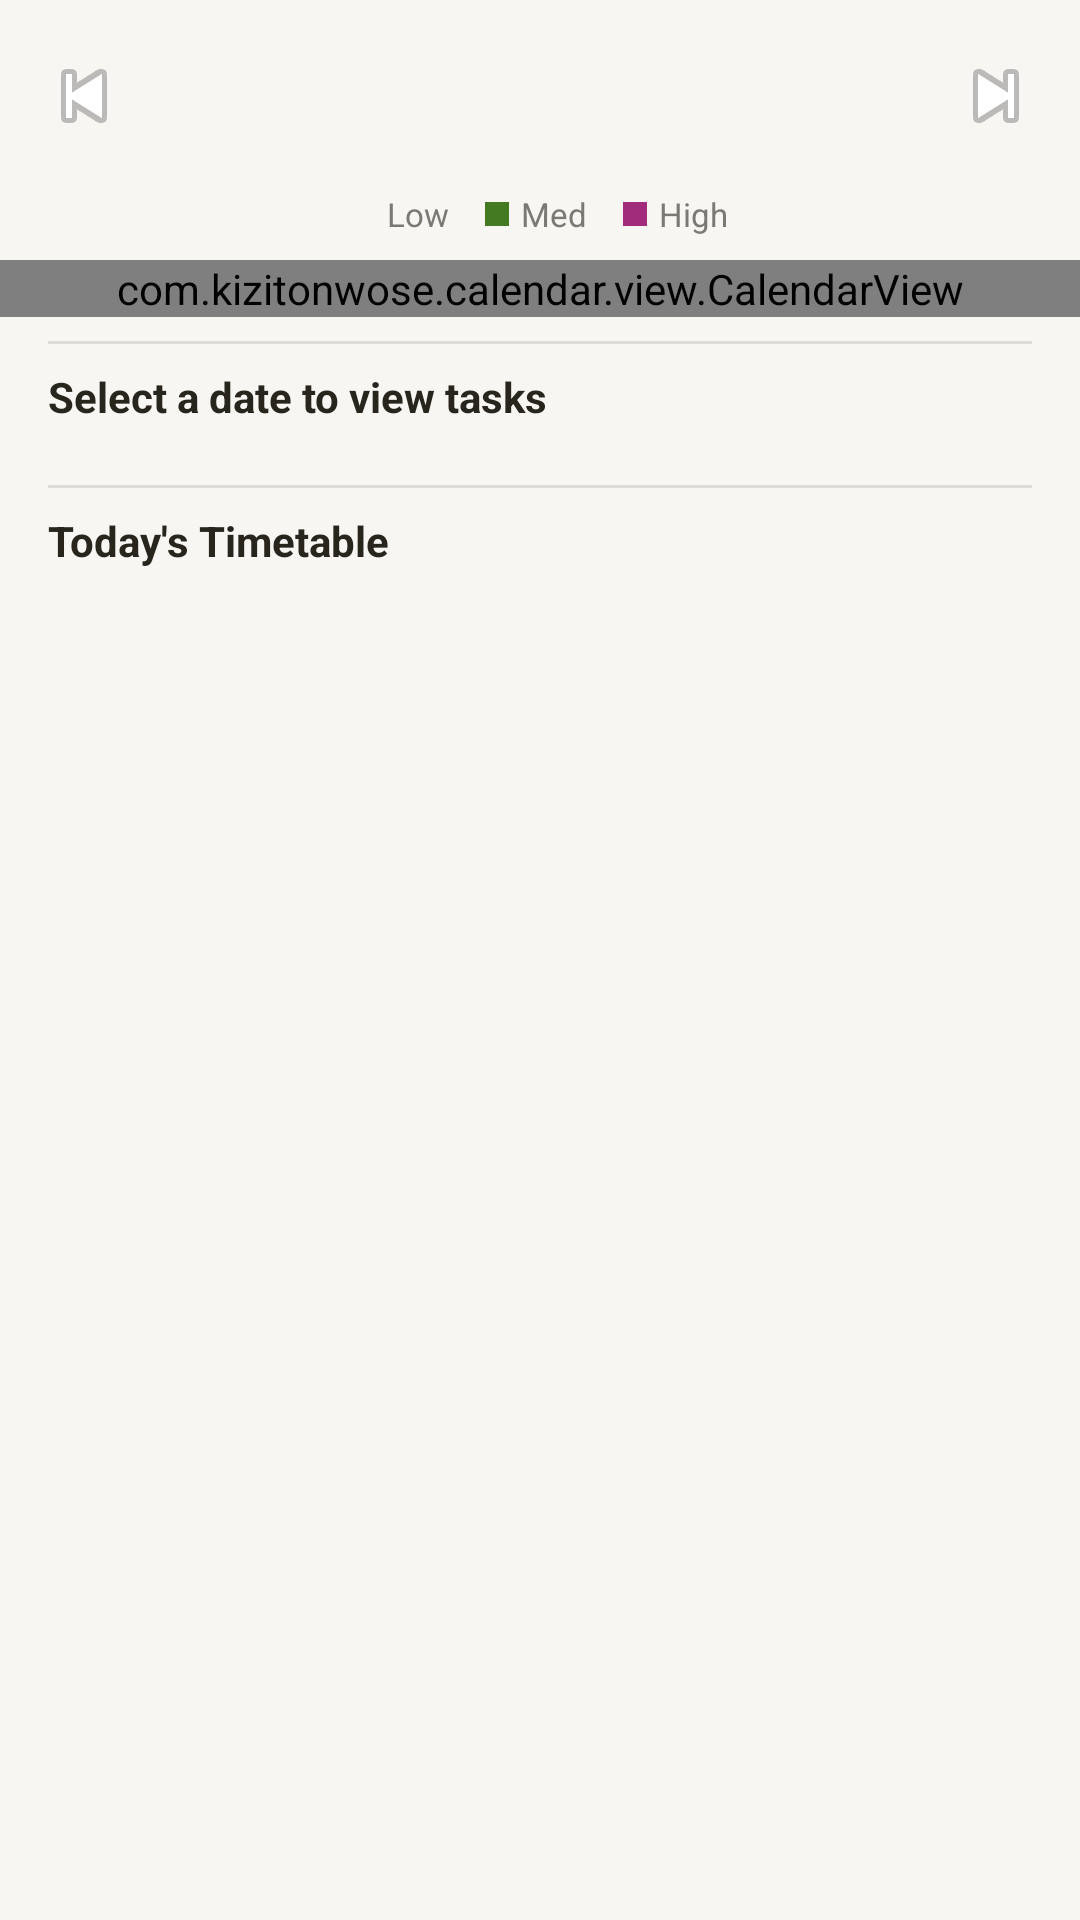

Screen size 1080w x 1920h. Icon name, then its center in pixels as [x,y]:
Next month: [996,96]
Previous month: [84,96]
